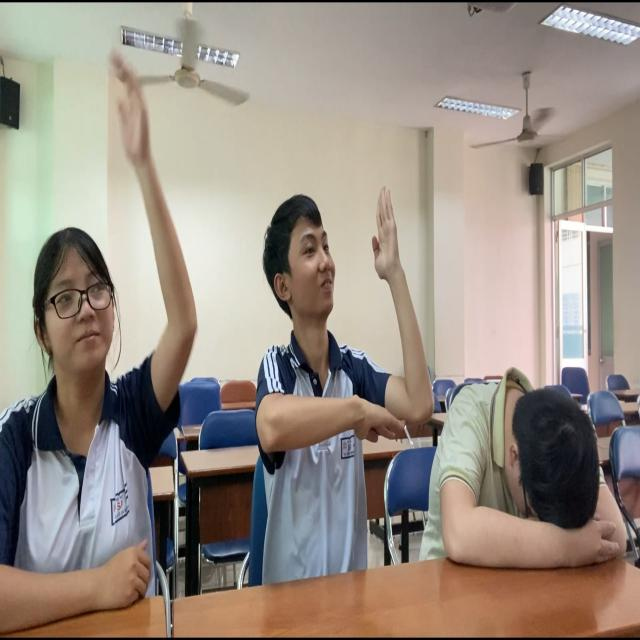raise_hand: (3, 37, 214, 640), (241, 153, 440, 636)
sleep: (422, 320, 631, 627)
